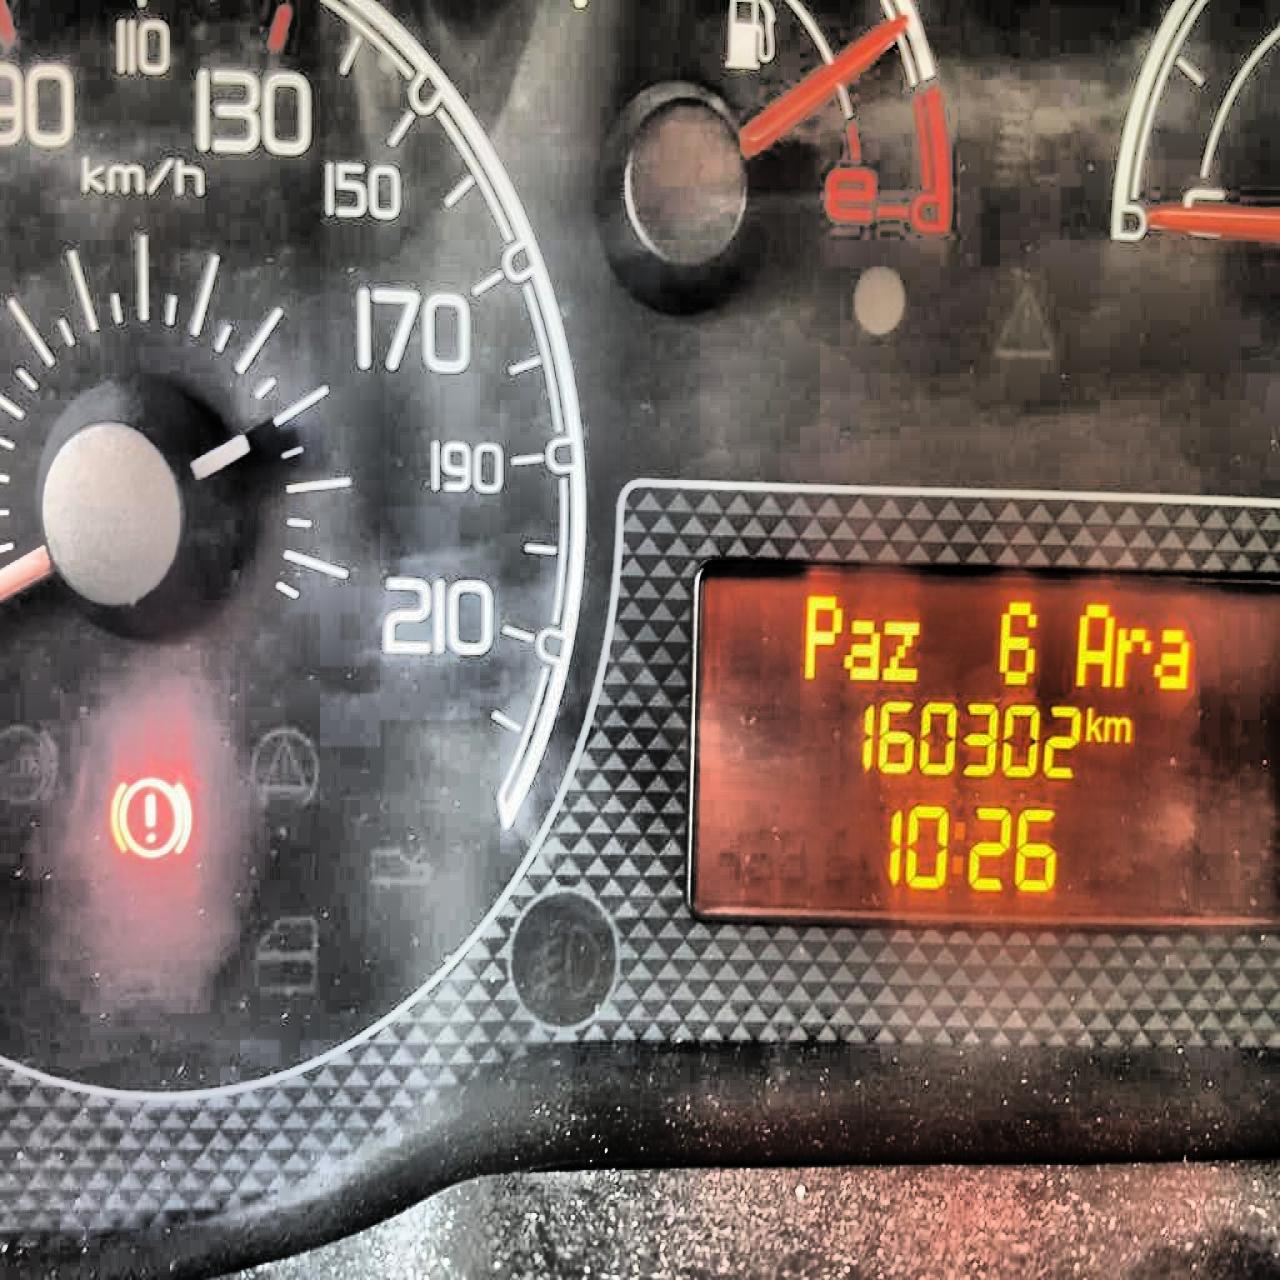0: (904, 798, 947, 892), (918, 696, 958, 778), (1000, 699, 1039, 782)
1: (883, 803, 901, 890), (856, 695, 873, 775)
2: (967, 798, 1012, 894), (1041, 700, 1081, 783)
3: (961, 695, 999, 782)
6: (1013, 802, 1056, 897), (995, 594, 1039, 688), (876, 695, 915, 777)
X: (798, 588, 843, 682), (1071, 599, 1112, 688), (881, 613, 920, 683), (844, 613, 880, 683), (1155, 621, 1190, 692), (1115, 620, 1151, 688), (948, 815, 966, 880), (1103, 710, 1132, 745), (1084, 700, 1102, 745)
odometer: (678, 546, 1279, 941)
